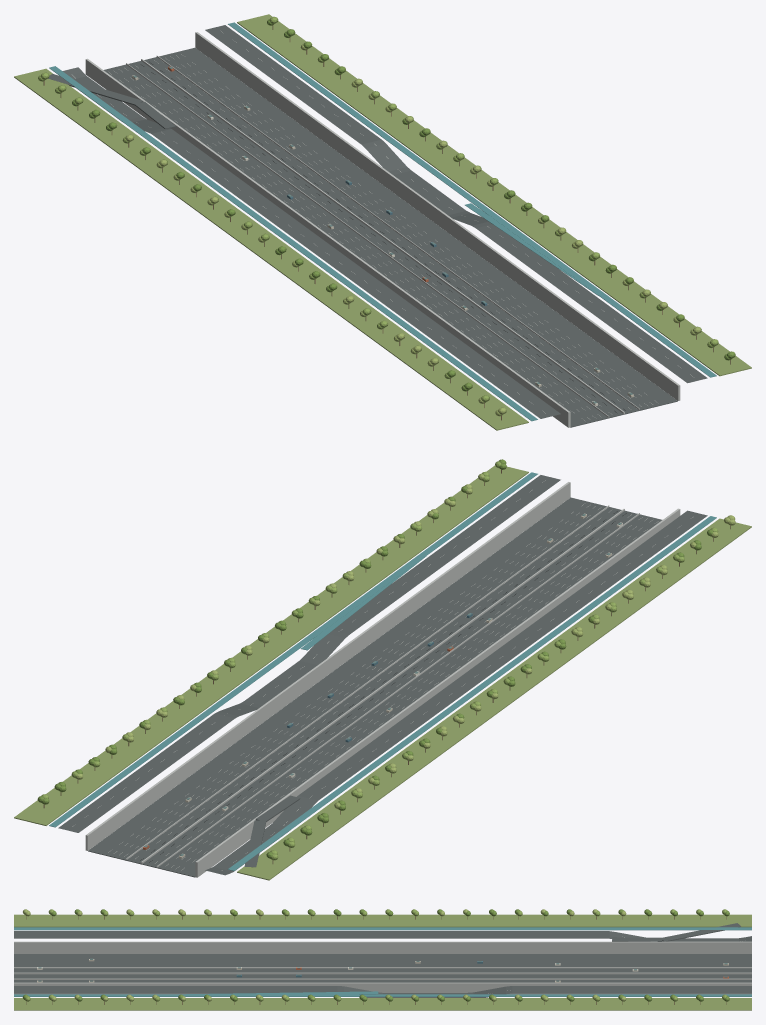
File: i35-highway-context.glb
The picture shows the model from 3 angles, top to bottom: view 1: azimuth 30°, elevation 25°; view 2: azimuth 150°, elevation 25°; view 3: azimuth 270°, elevation 25°; orthographic projection. The views are drawn at different scales.
Parts seen in each view (by area): view 1: 30 _ Shared highway and frontage context - illustrative__Amb; view 2: 30 _ Shared highway and frontage context - illustrative__Amb; view 3: 30 _ Shared highway and frontage context - illustrative__Amb.
Part boxes in pixels (x1=…): 30 _ Shared highway and frontage context - illustrative__Amb: x1=14, y1=14, x2=751, y2=430; 30 _ Shared highway and frontage context - illustrative__Amb: x1=14, y1=459, x2=751, y2=880; 30 _ Shared highway and frontage context - illustrative__Amb: x1=14, y1=909, x2=751, y2=1010.
Size of the model in its own units: 174 by 18.96 by 570.
